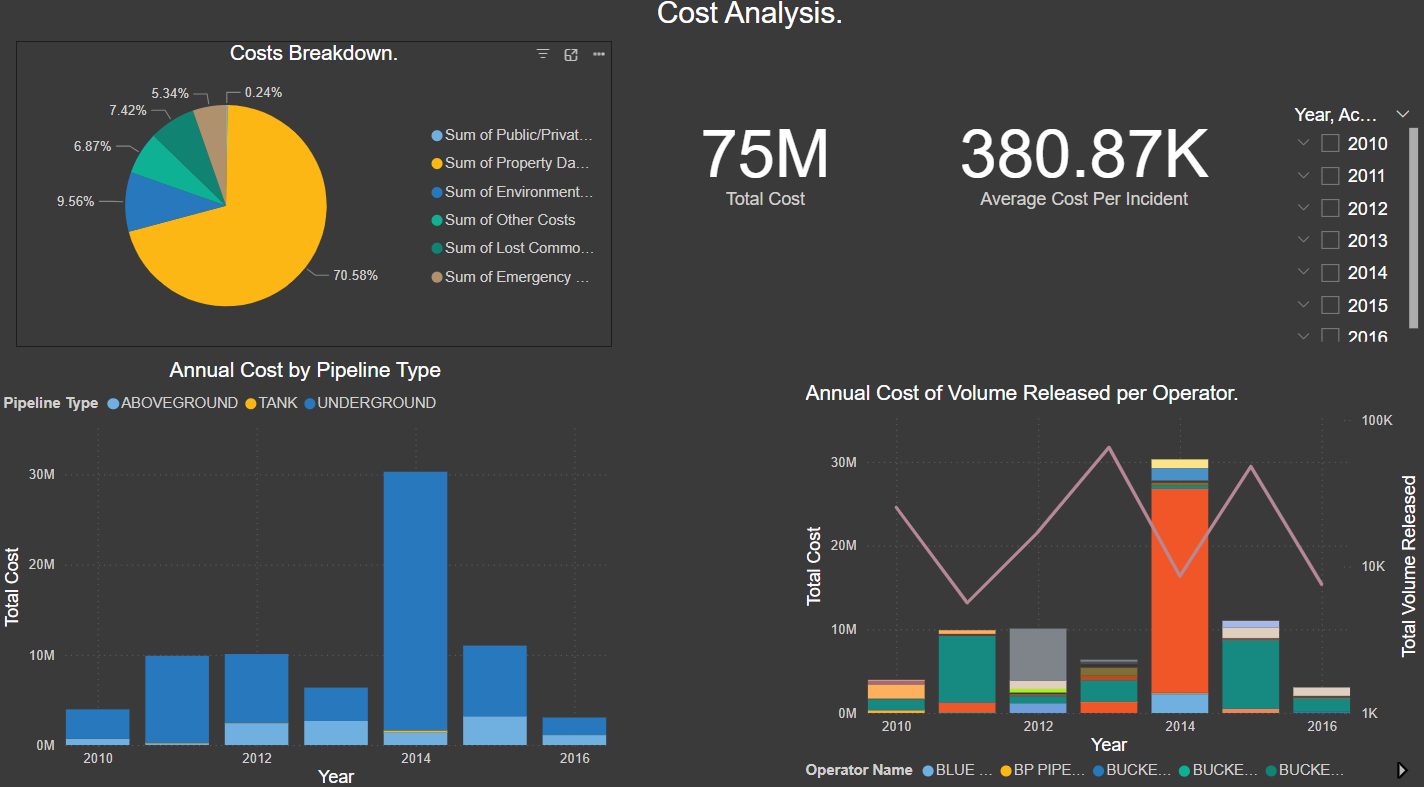

The dashboard page shown, as its layout file describes it:
{"tool":"powerbi","page":{"name":"Page 2","canvas":[1280,720],"ordinal":1},"visuals":[{"type":"lineStackedColumnComboChart","title":"Annual Cost of Volume Released per Operator.","fields":{"Category":["Data. Year"],"Y":["Data.Total Cost"],"Y2":["Data.Total Volume Released"],"Series":["Data.Operator Name"]},"box":[719.8,350.2,560.2,369.6],"z":0},{"type":"columnChart","title":"Annual Cost by Pipeline Type","fields":{"Y":["Data.Total Cost"],"Category":["Data. Year"],"Series":["Data.Pipeline Type"]},"box":[0,329.7,551.5,390],"z":1000},{"type":"textbox","box":[558.3,0,233.4,52.5],"z":2000},{"type":"slicer","fields":{"Values":["Data. Year","Data.Accident State","Data.Cause Category","Data.Pipeline Type"]},"box":[1150.6,98.2,129.4,221.8],"z":3000},{"type":"pieChart","title":"Costs Breakdown.","fields":{"Y":["Sum(Data.Public/Private Property Damage Costs)","Sum(Data.Property Damage Costs)","Sum(Data.Environmental Remediation Costs)","Sum(Data.Other Costs)","Sum(Data.Lost Commodity Costs)","Sum(Data.Emergency Response Costs)"]},"box":[16.2,44.9,535.1,274.7],"z":4000},{"type":"card","fields":{"Values":["Data.Total Cost"]},"box":[558.4,74.5,261.2,149.9],"z":5000},{"type":"card","fields":{"Values":["CostCategories.Avg Cost Per Incident"]},"box":[811.6,74.5,326.8,149.9],"z":6000}]}

Visuals, with their boxes in screenshot pixels (x1, y1, x2, y2), scaled from the page's 1280x720 canvas onto the 1424x787 screenshot:
"Annual Cost of Volume Released per Operator." lineStackedColumnComboChart: box=[801, 383, 1423, 786]
"Annual Cost by Pipeline Type" columnChart: box=[0, 360, 614, 786]
textbox: box=[621, 0, 881, 57]
slicer - Data. Year x Data.Accident State: box=[1280, 107, 1423, 350]
"Costs Breakdown." pieChart: box=[18, 49, 613, 349]
card - Data.Total Cost: box=[621, 81, 912, 245]
card - CostCategories.Avg Cost Per Incident: box=[903, 81, 1266, 245]
